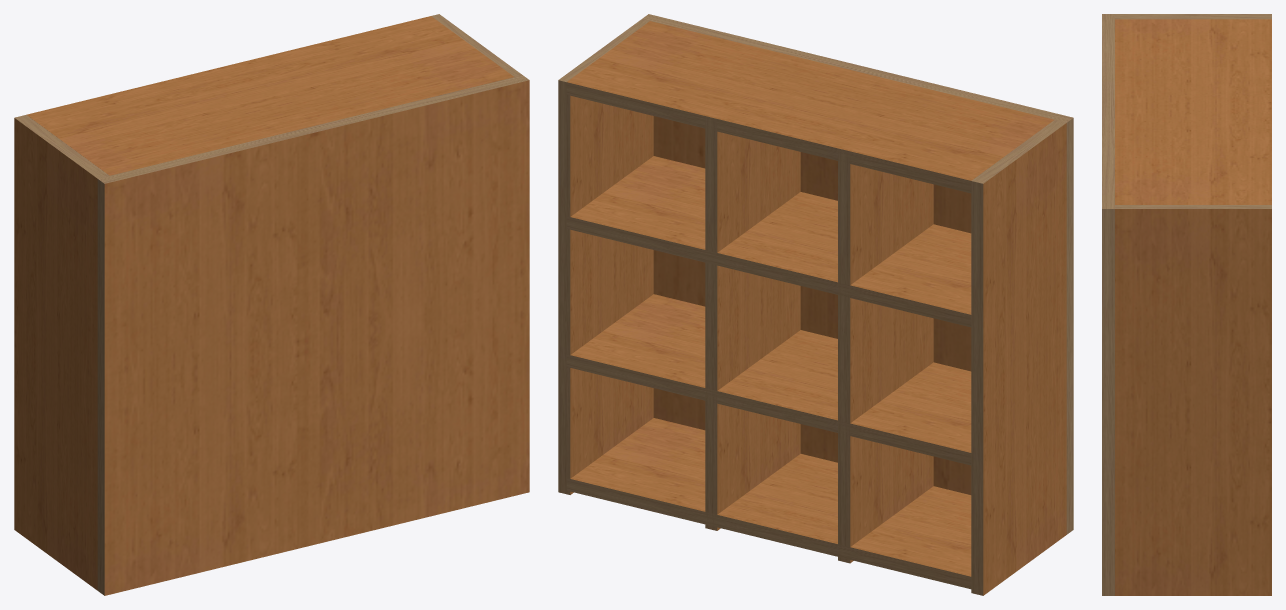
The model's file is self3.FBX.
3 views of the same model, side by side, from view 1: azimuth 30°, elevation 25°; view 2: azimuth 150°, elevation 25°; view 3: azimuth 270°, elevation 25° (orthographic). The views are drawn at different scales.
Parts seen in each view (by area): view 1: self3; view 2: self3; view 3: self3.
Boxes of the visible parts, <box> form: self3: <box>14,14,529,595</box>; self3: <box>558,14,1073,595</box>; self3: <box>1102,14,1271,595</box>.
Size of the model in its own units: 8.82 by 8.17 by 3.25.
